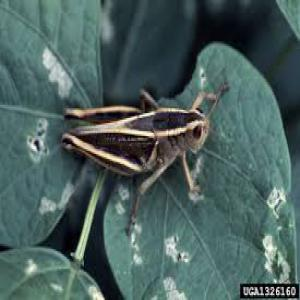locust: (59, 72, 220, 198)
